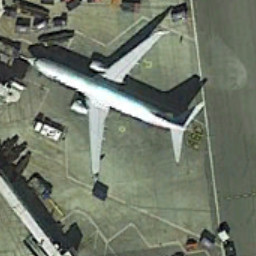Airplane: (20, 18, 211, 189)
